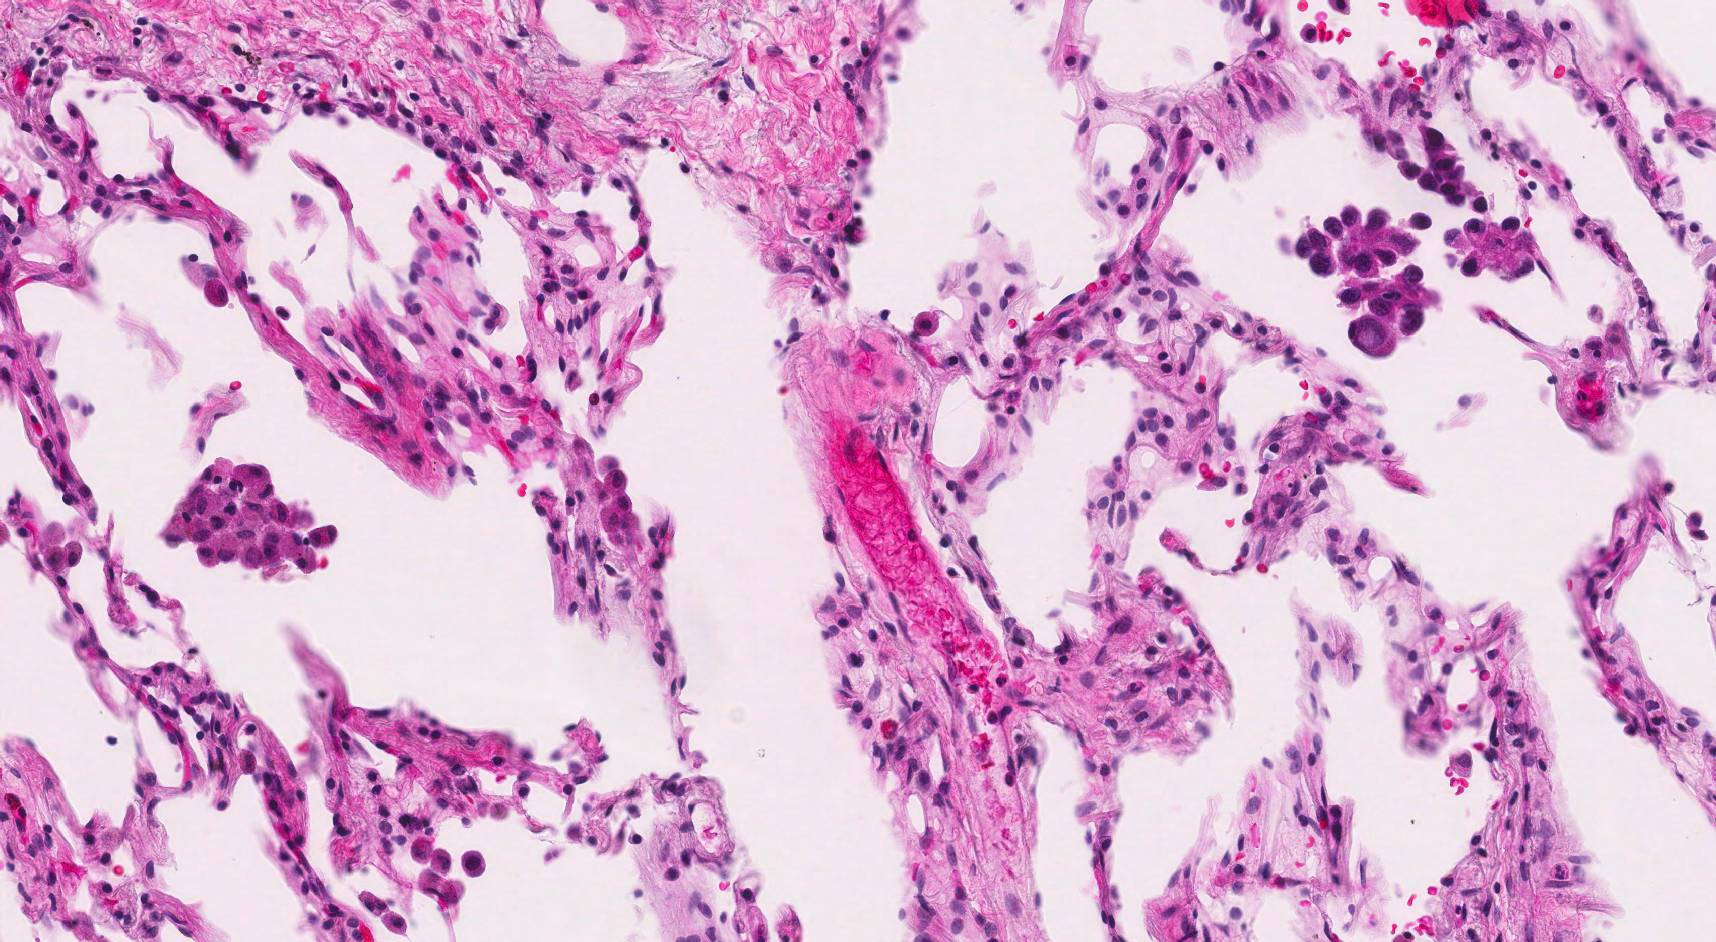stas: (1299, 202, 1442, 357), (1398, 127, 1491, 214), (1442, 214, 1540, 277)
